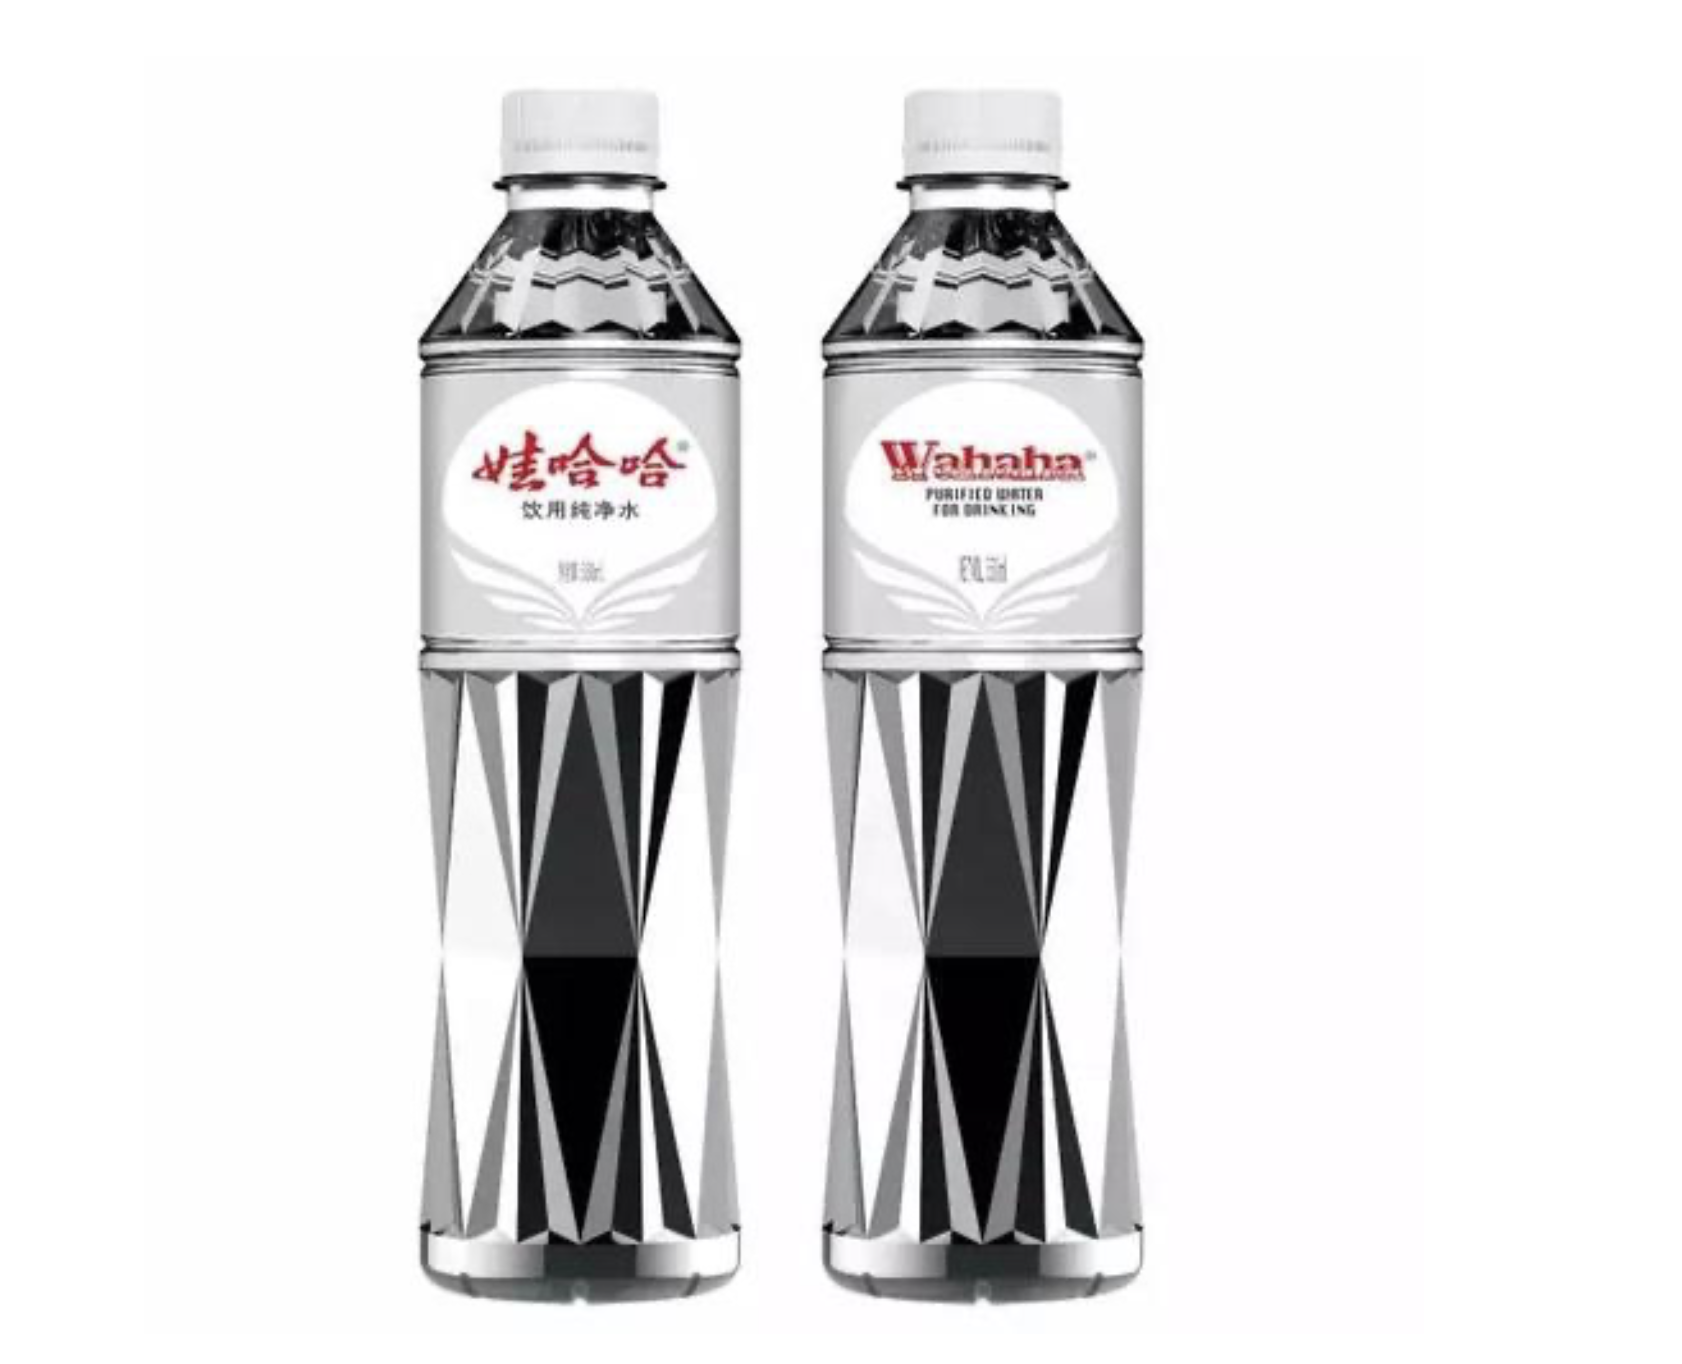哇哈哈: (388, 64, 762, 1324), (806, 70, 1170, 1328)
